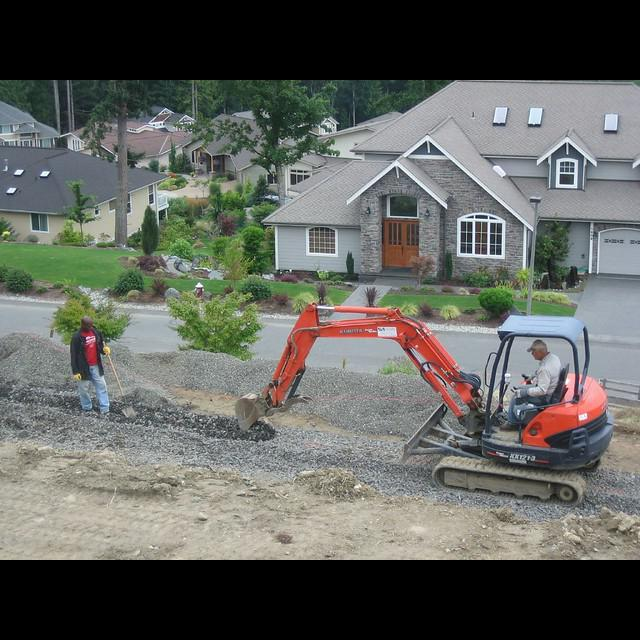Excavator: (232, 305, 616, 510)
Gloves: (515, 389, 528, 397), (103, 346, 110, 356), (73, 374, 82, 381)
NO-Hardhat: (528, 339, 547, 351), (82, 316, 92, 323)
NO-Mask: (533, 354, 543, 360), (84, 327, 92, 332)
NO-Safety Vest: (535, 355, 561, 394)
Person: (499, 339, 561, 430), (70, 316, 111, 414)
Safety Vest: (78, 331, 99, 366)
fire hydrant: (194, 281, 204, 299)
